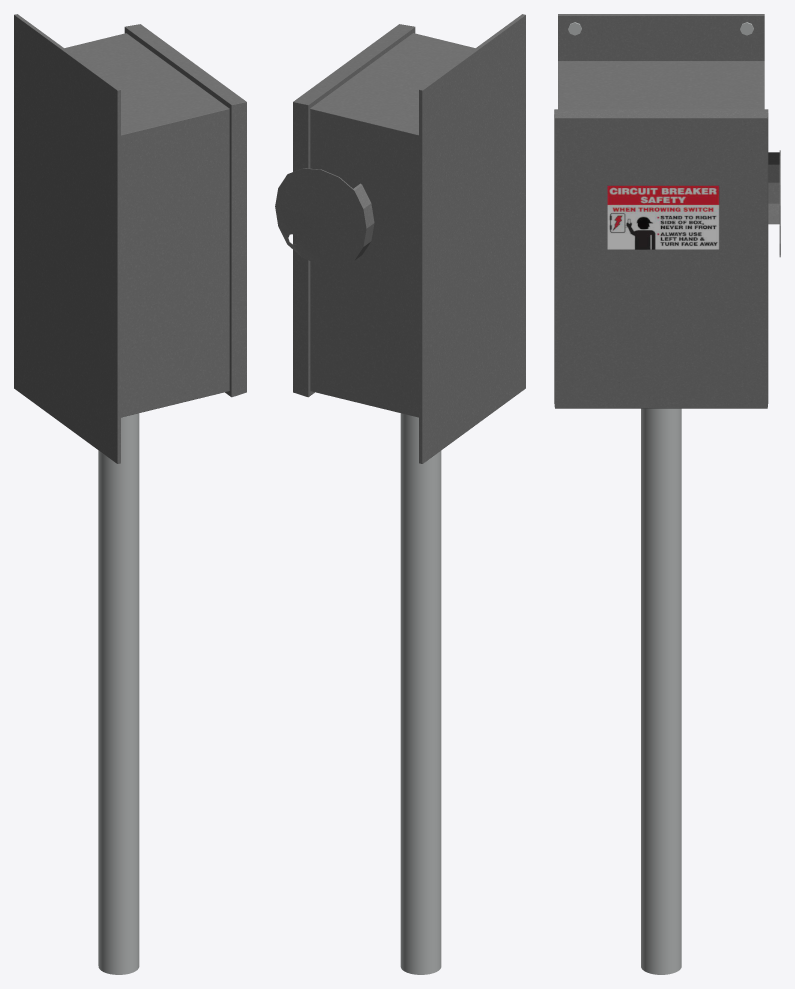
Rendered from CircuitBox.fbx.
The picture shows the model from 3 angles, left to right: view 1: azimuth 30°, elevation 25°; view 2: azimuth 150°, elevation 25°; view 3: azimuth 270°, elevation 25°; orthographic projection.
Visible parts, largest first — view 1: BreakerBox; view 2: BreakerBox; view 3: BreakerBox.
Boxes of the visible parts, box(x1,y1,x2,y2) form: BreakerBox: box(14, 14, 246, 974); BreakerBox: box(275, 14, 525, 974); BreakerBox: box(554, 14, 780, 974).
Bounding box in the file's own units: 103 × 656 × 145.
